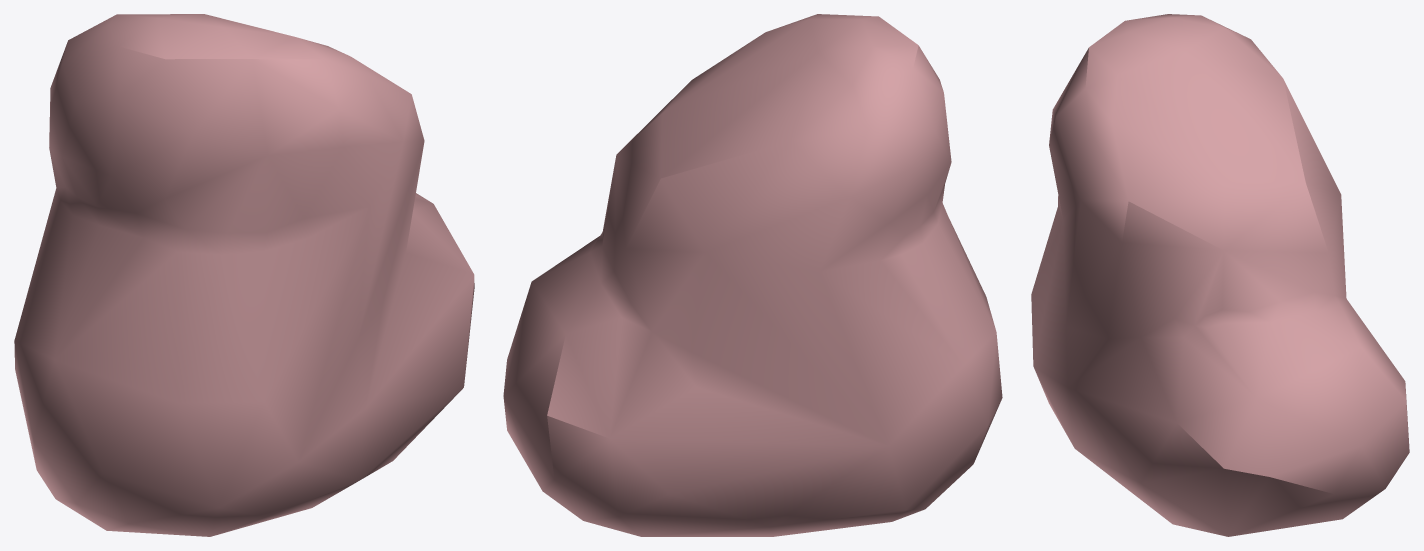
The model's file is fma16982_fj2628.glb.
3 views of the same model, side by side, from view 1: azimuth 30°, elevation 25°; view 2: azimuth 150°, elevation 25°; view 3: azimuth 270°, elevation 25° (orthographic). The views are drawn at different scales.
Visible parts, largest first — view 1: FMA16982_FJ2628; view 2: FMA16982_FJ2628; view 3: FMA16982_FJ2628.
Boxes of the visible parts, <box> form: FMA16982_FJ2628: <box>14,14,474,536</box>; FMA16982_FJ2628: <box>503,14,1002,536</box>; FMA16982_FJ2628: <box>1031,14,1409,536</box>.
Bounding box in the file's own units: 0.0368 × 0.0387 × 0.0309.
